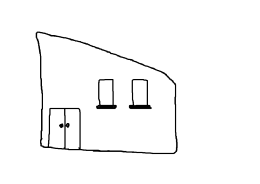door: (45, 103, 85, 154)
open_window: (125, 74, 155, 114), (93, 75, 120, 114)
single_line_roof: (26, 26, 182, 76)
wall: (35, 65, 182, 158)
